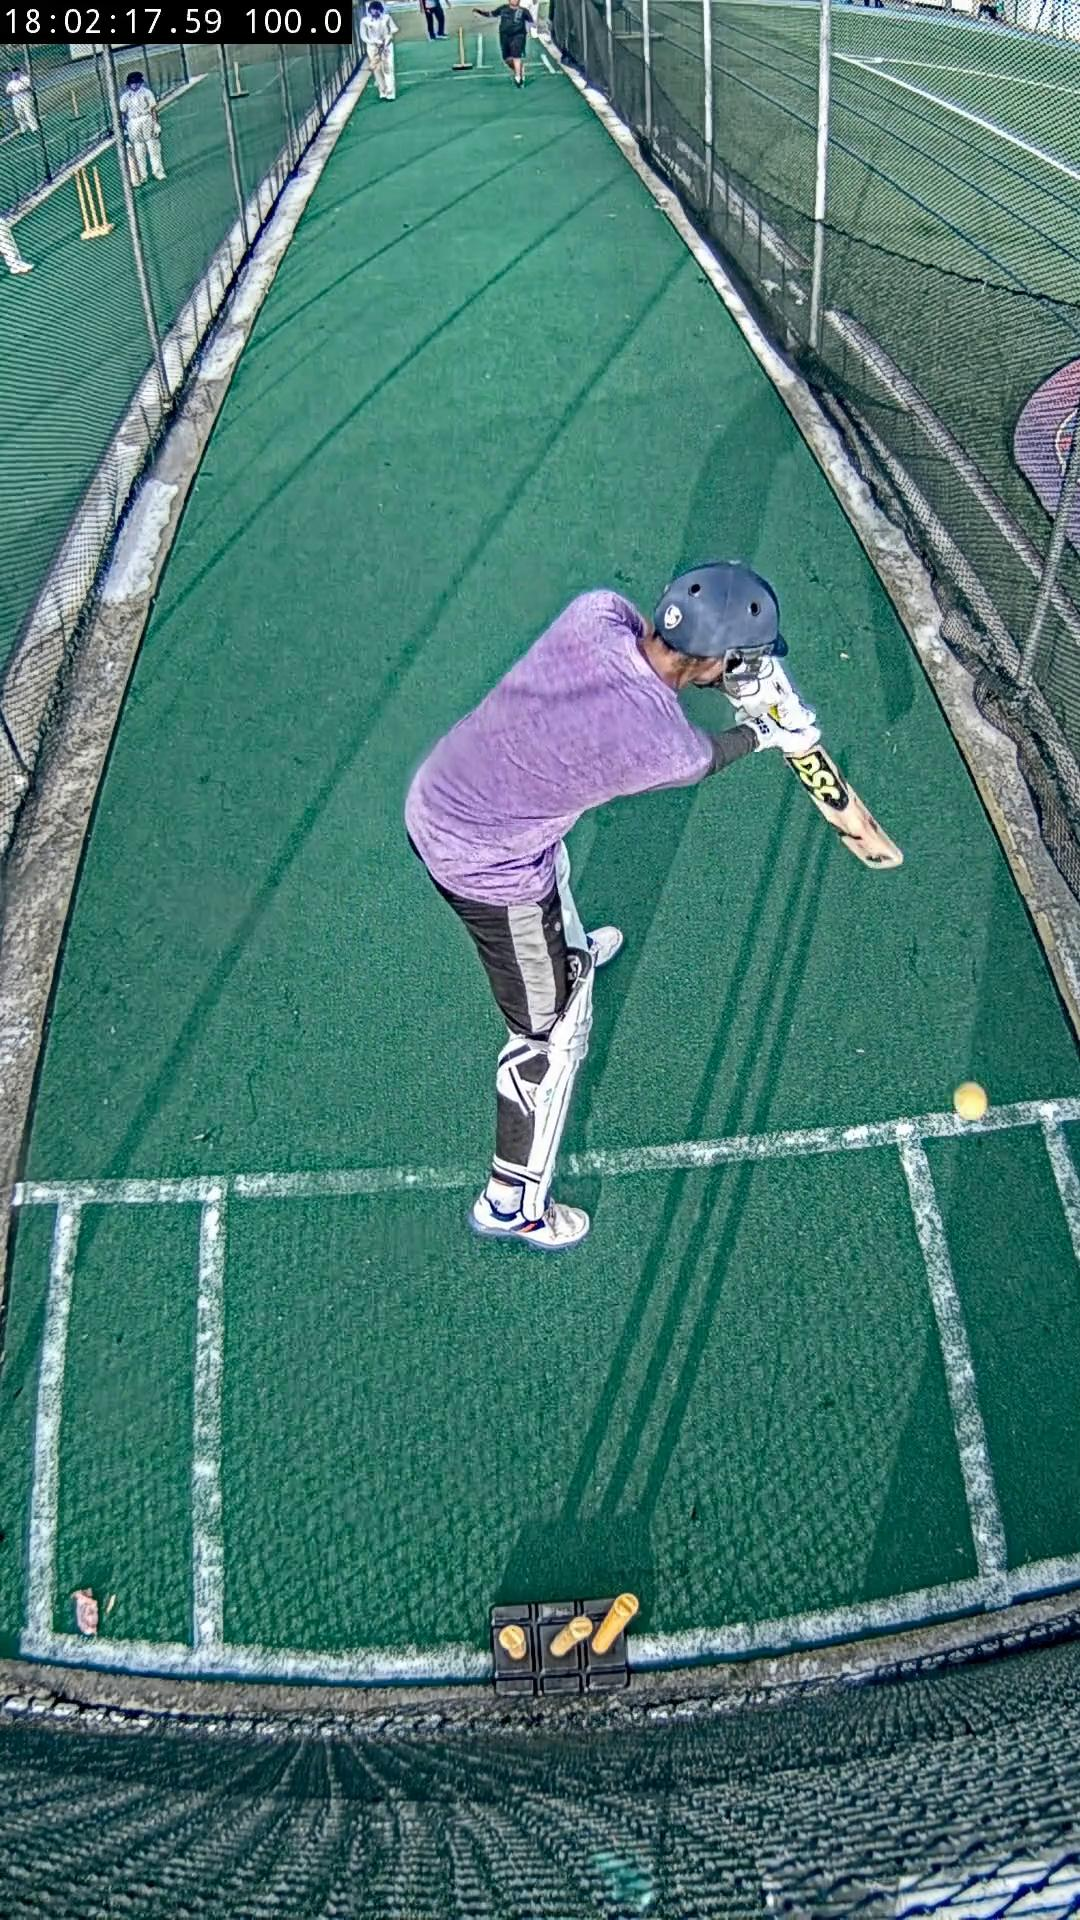ball: (952, 1080, 990, 1121)
bat: (787, 746, 903, 870)
gloves: (746, 686, 822, 756)
helmet: (653, 563, 787, 688)
pads: (521, 952, 592, 1218), (555, 844, 588, 948)
stumps: (492, 1594, 637, 1695)
